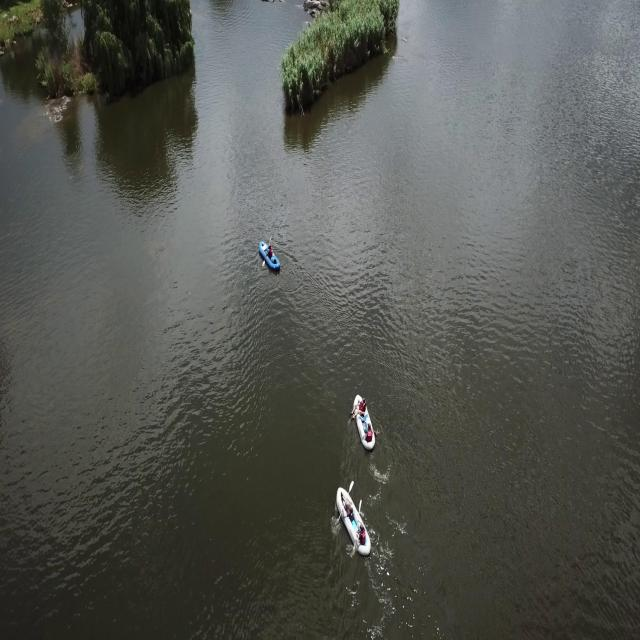kayak: (333, 475, 373, 565), (350, 390, 378, 453), (256, 230, 282, 274)
